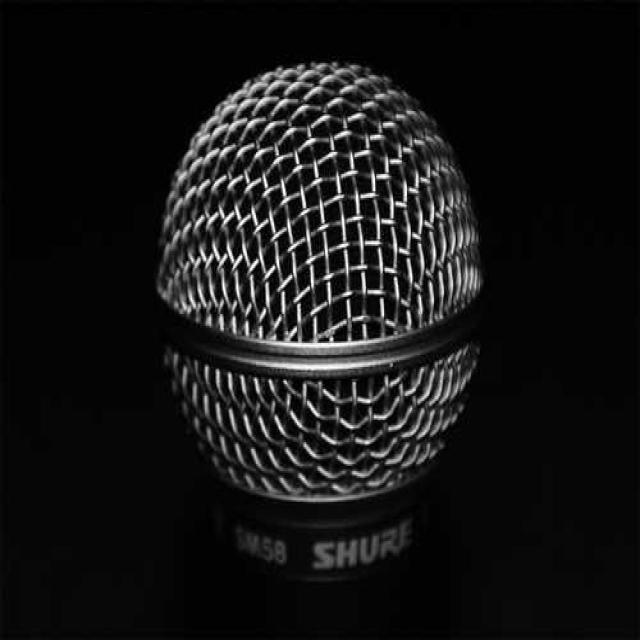microphone: (152, 64, 488, 499)
